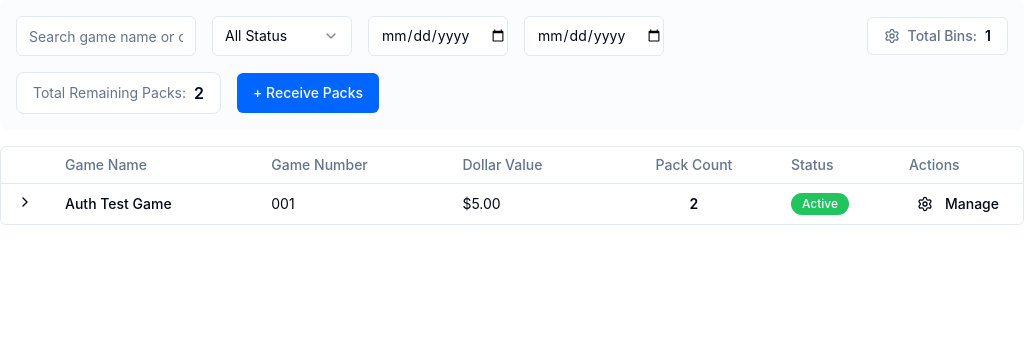
Test case: LotteryTable: Return Button Feature (SEC-010: AUTHZ) › RETURN-BTN-004: [P0] should use backend can_return field, not frontend pack status logic
# Expand the game row
Click the row with test id "lottery-table-row-game-auth-test": {"x": 118, "y": 203} [1, 183, 1023, 224]
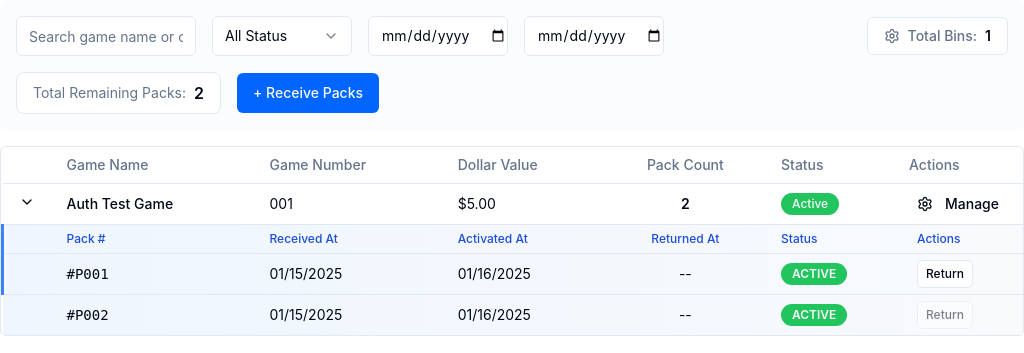
Result: the button with test id "return-pack-btn-pack-authorized" is enabled at [917, 260, 973, 288]
Result: the button with test id "return-pack-btn-pack-not-authorized" is disabled at [917, 300, 973, 328]
